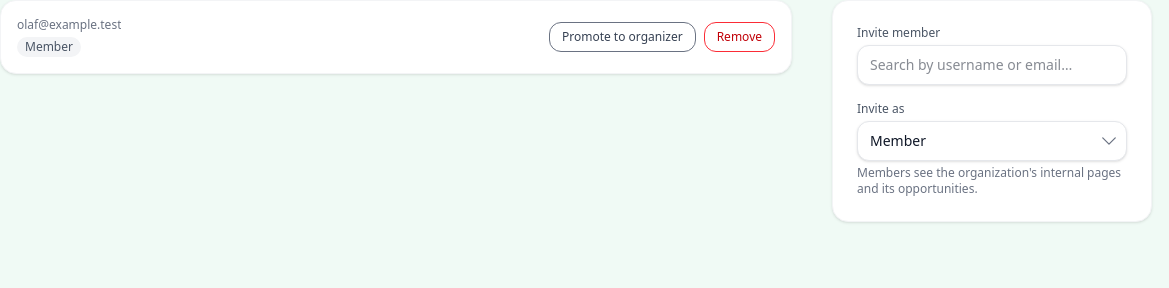
Scenario: OrgMembersPage invite search › says the search failed rather than that it found nobody
This screenshot has width=1169, height=288.
Type "admin" into the search field labelled "Invite member" at point(992, 65), box left=857, top=45, right=1127, bottom=85
Wait 400 ms
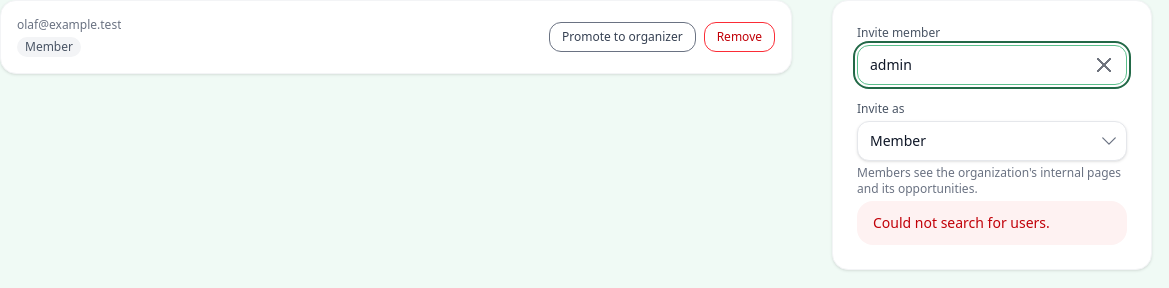
expect the message reads "Could not search for users.": met, box left=873, top=213, right=1050, bottom=232
